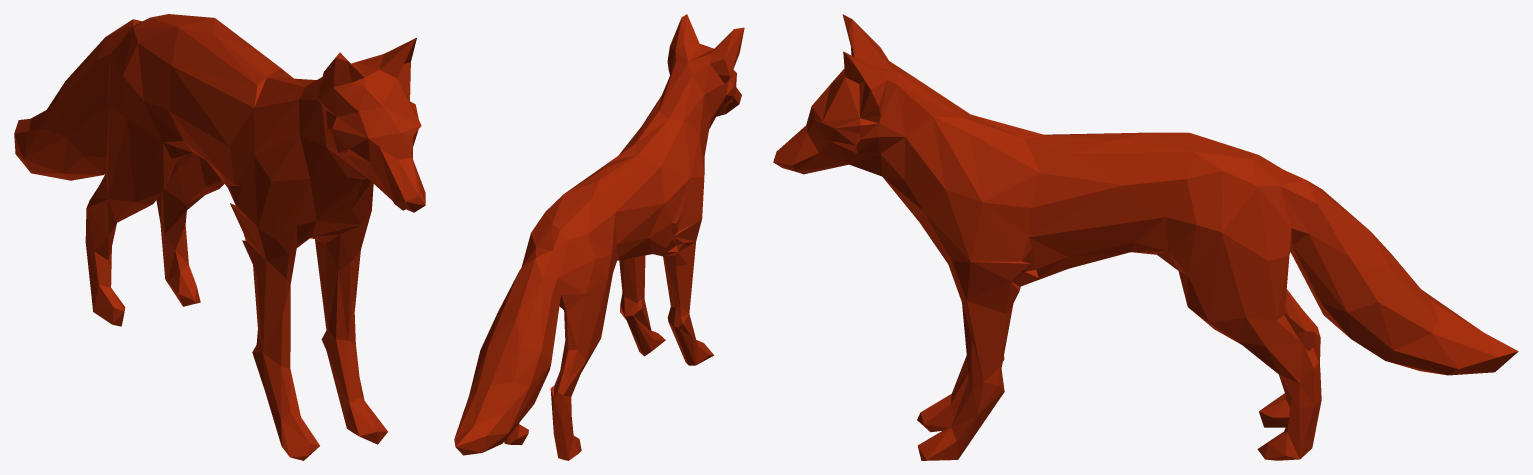
Rendered from fox_low.obj.
3 views of the same model, side by side, from view 1: azimuth 30°, elevation 25°; view 2: azimuth 150°, elevation 25°; view 3: azimuth 270°, elevation 25° (orthographic). The views are drawn at different scales.
Visible parts, largest first — view 1: Cube_Cube.001; view 2: Cube_Cube.001; view 3: Cube_Cube.001.
Part boxes in pixels (bbox=[...]): Cube_Cube.001: bbox=[14, 14, 425, 460]; Cube_Cube.001: bbox=[454, 14, 744, 460]; Cube_Cube.001: bbox=[773, 14, 1518, 460].
Bounding box in the file's own units: 1.4 × 5.17 × 8.49.
